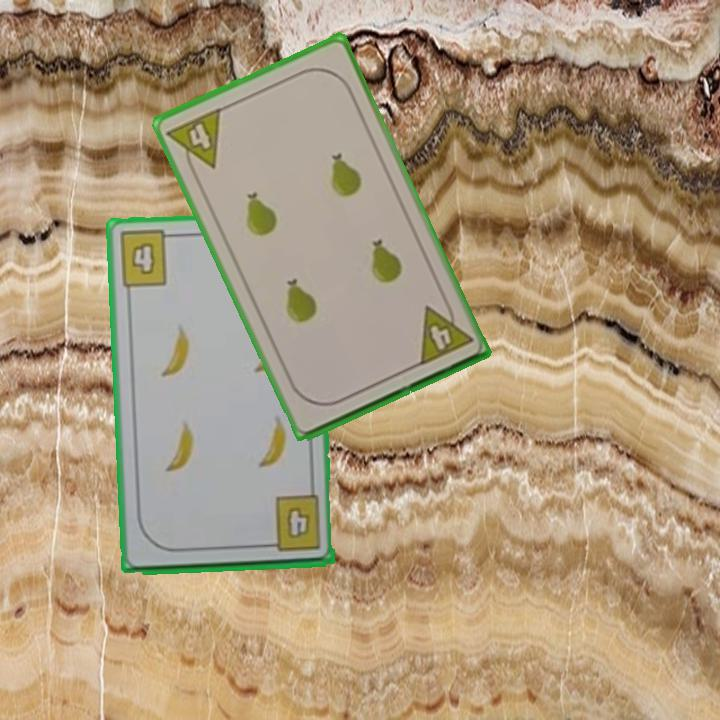4b: (115, 227, 179, 290), (260, 492, 324, 555)
4p: (163, 104, 224, 180), (414, 295, 476, 369)
